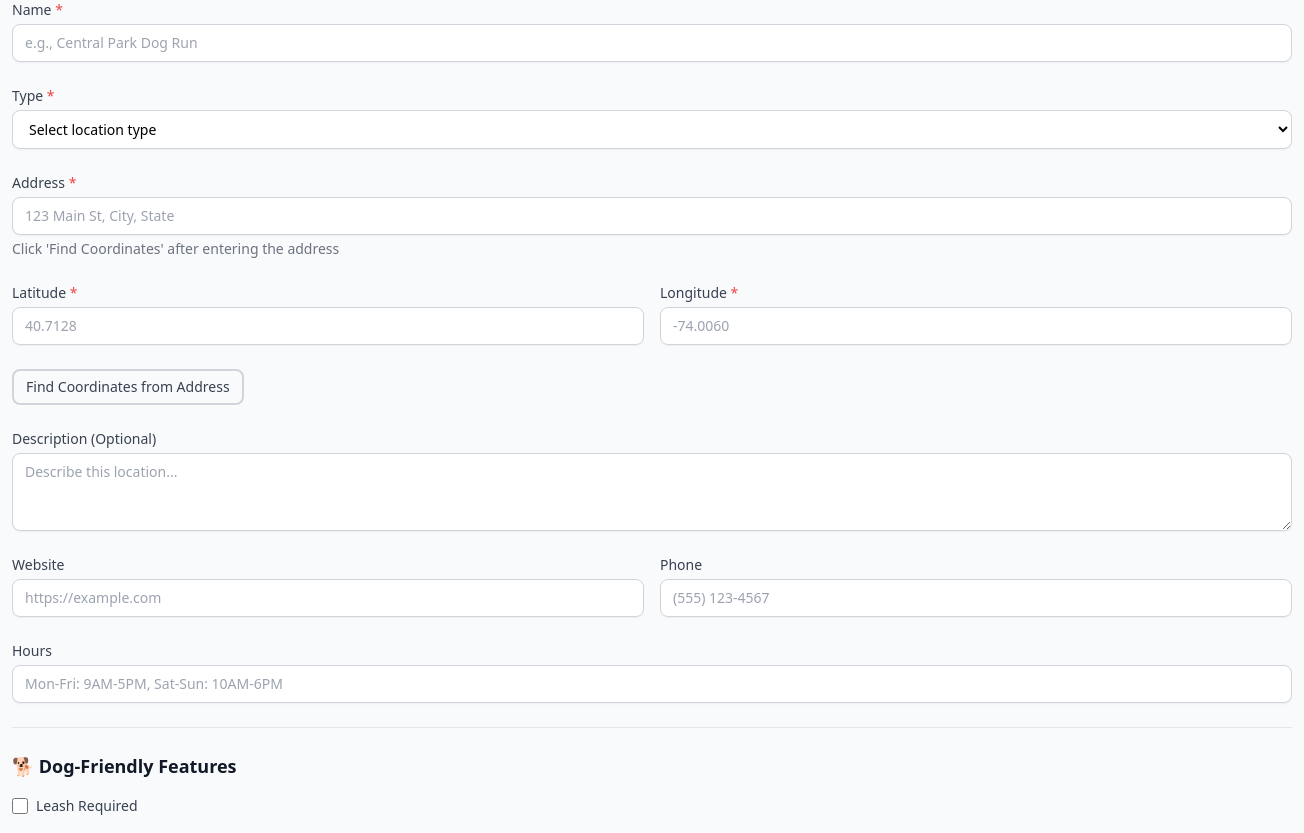
AddLocationForm › shows validation errors and skips submission when required or optional fields are invalid
Type "not-a-url" into the field with placeholder "https://example.com" at [328, 598], box [12,579,644,617]
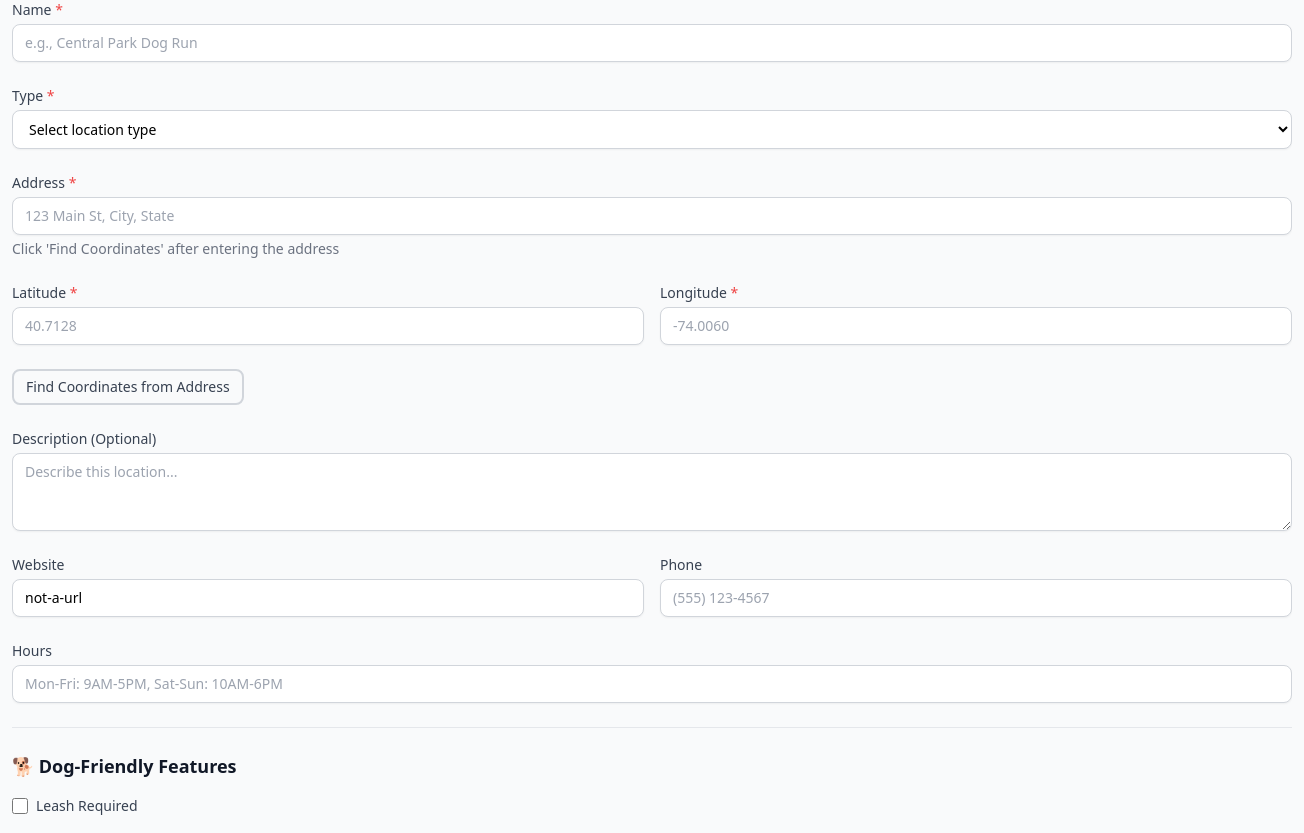
Type "not-a-phone" into the field with placeholder "(555) 123-4567" at [976, 598], box [660,579,1292,617]
(page scrolled)
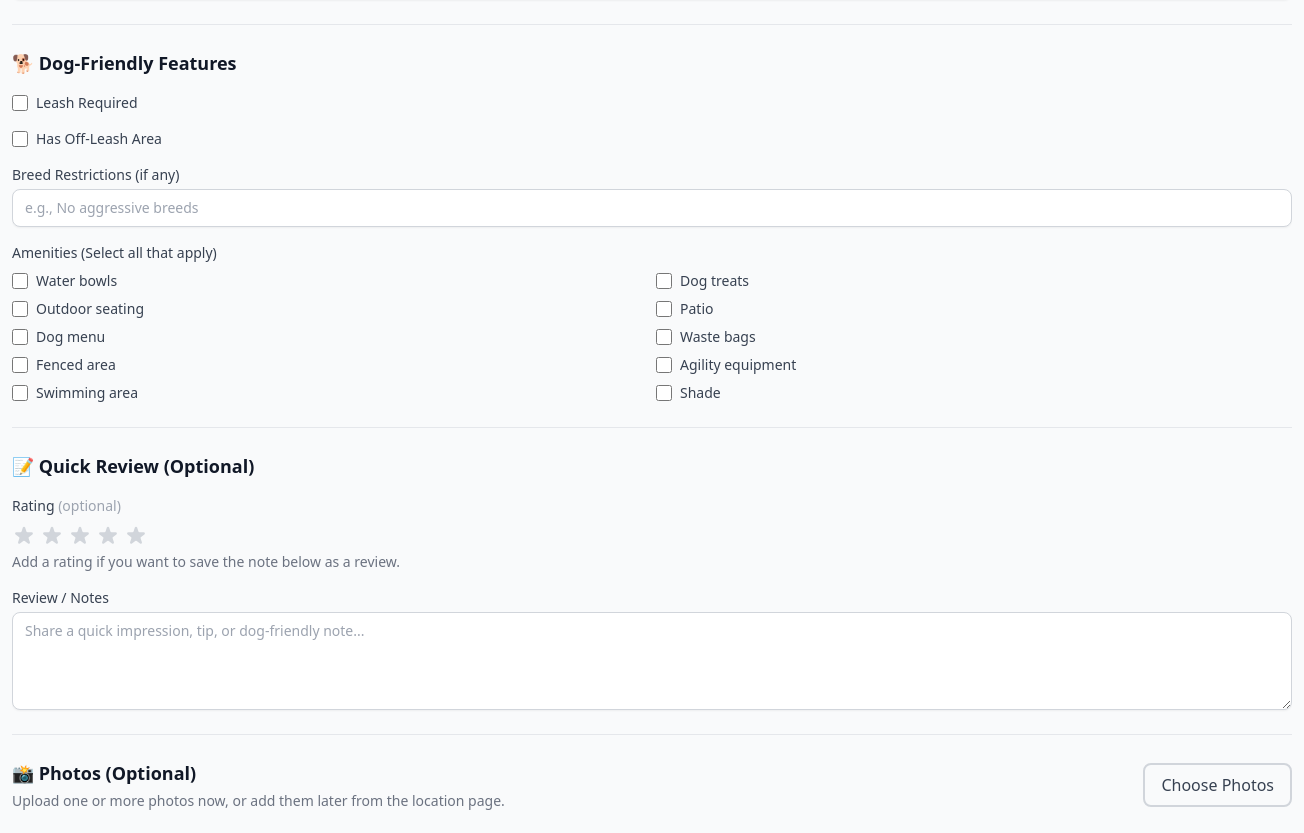
Type "Great dog run" into the text box labelled "Review / Notes" at [652, 661], box [12,612,1292,710]
(page scrolled)
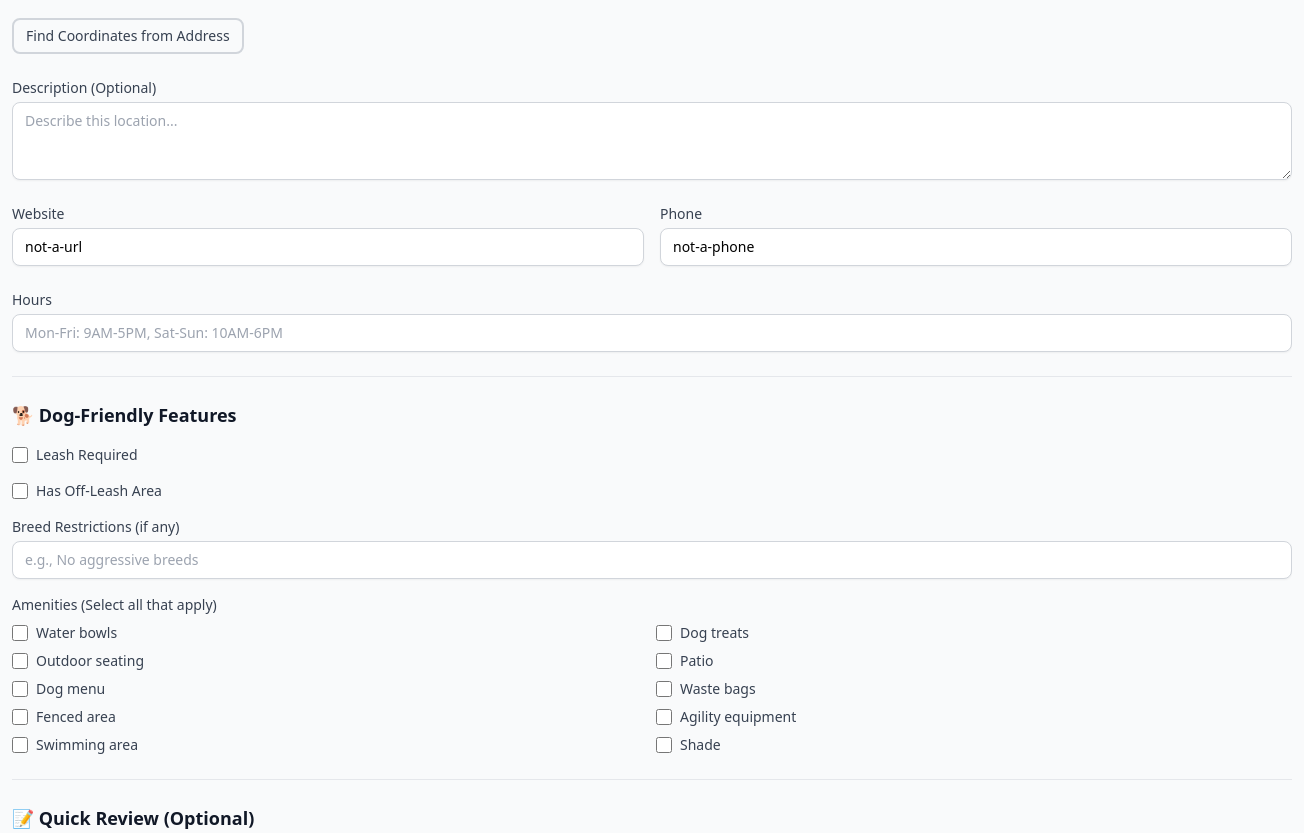
Submit the form
(page scrolled)
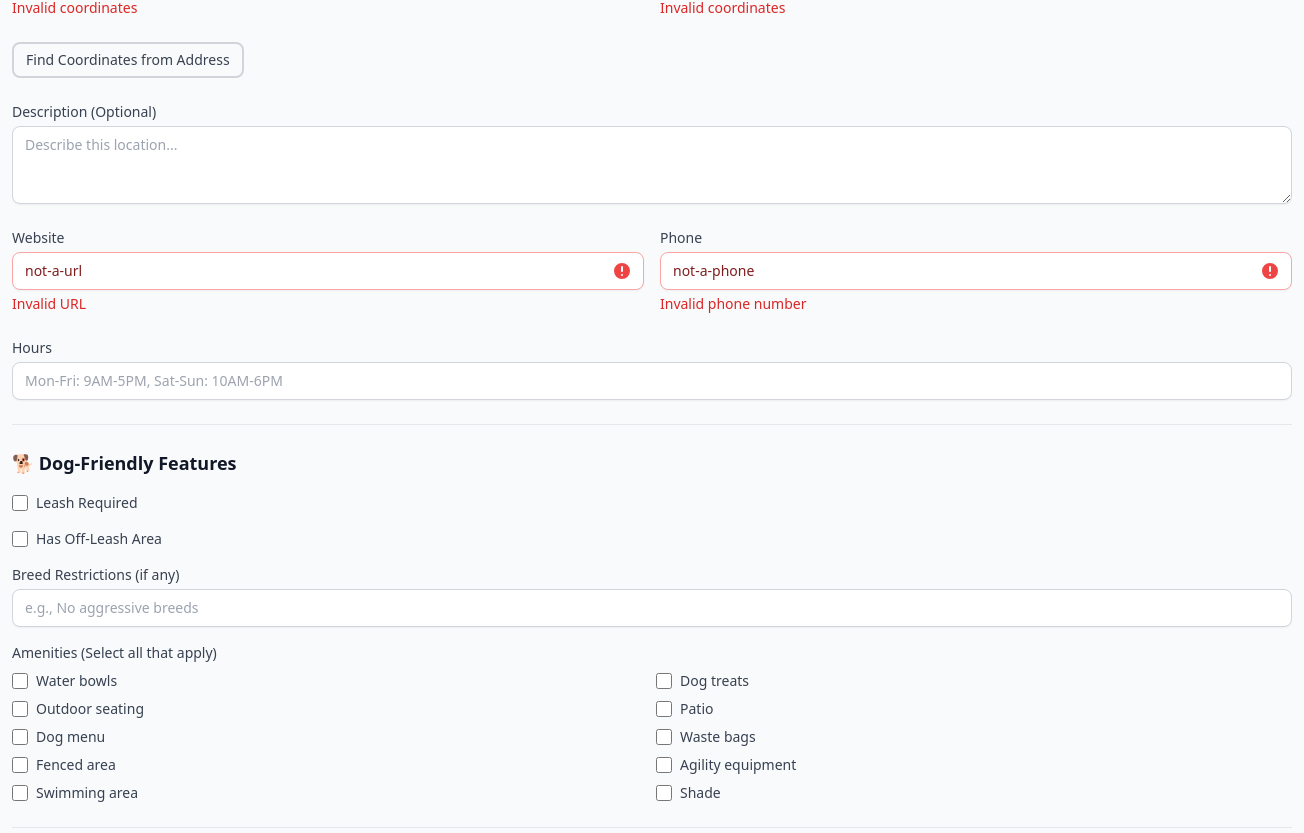
Now the form shows "Invalid URL", box [12,294,86,313]
Now the form shows "Invalid phone number", box [660,294,806,313]
